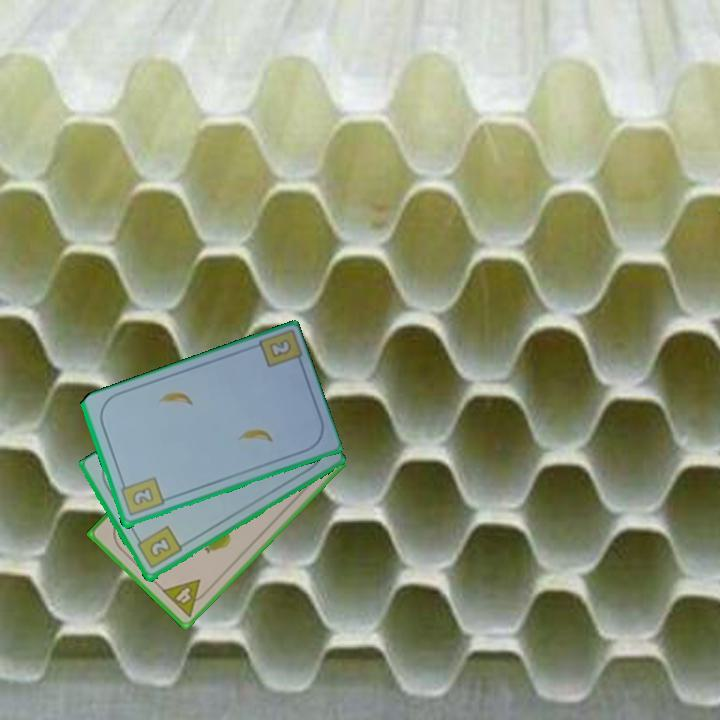2b: (132, 523, 185, 572), (117, 474, 166, 519), (265, 335, 294, 361)
4p: (158, 576, 213, 620)
